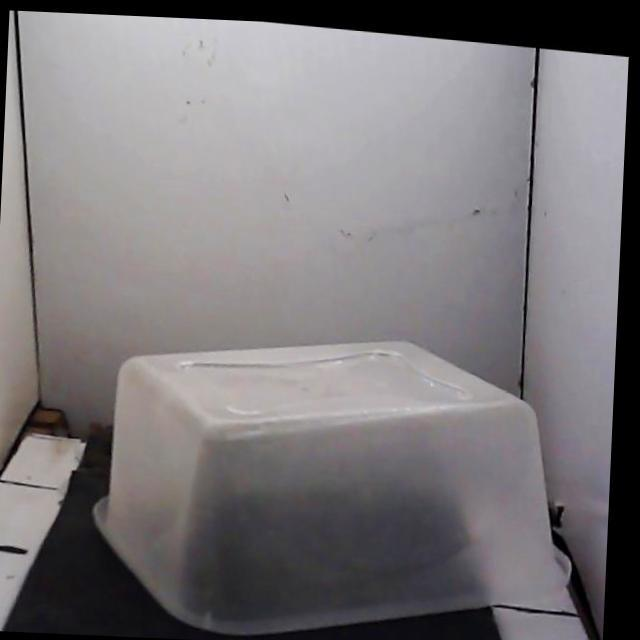plastico: (95, 342, 567, 633)
